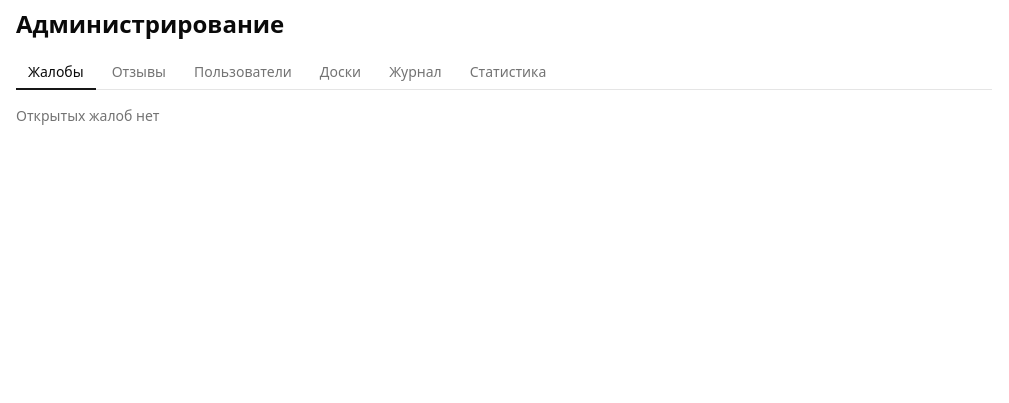
Scenario: AdminFeedback › shows the open feedback with its author, kind, page, version and browser, and closes one
The image size is (1009, 403).
Click the tab "Отзывы": (139, 73) [100, 56, 178, 90]
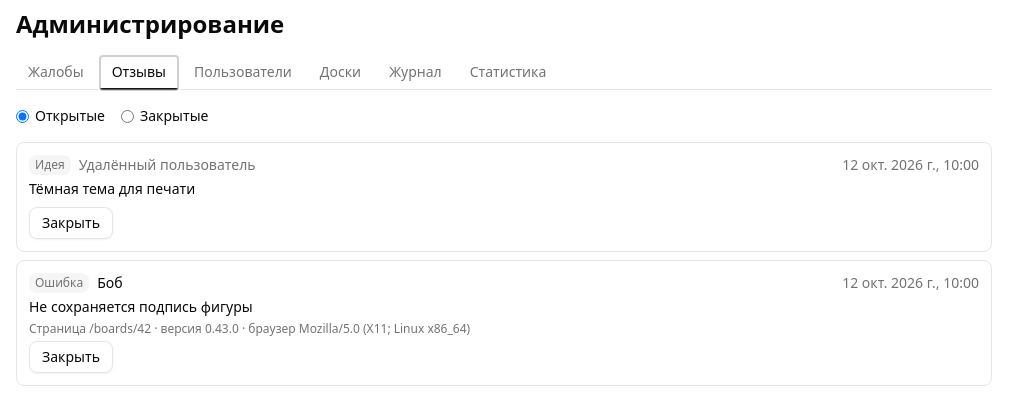
Check: the list item that starts with "Идея" is shown, box [35, 156, 65, 173]
Check: the list item that starts with "Идея" shows "Удалённый пользователь", box [79, 155, 256, 174]
Check: the list item that starts with "Идея" shows "Тёмная тема для печати", box [29, 179, 195, 198]
Click the button "Закрыть" below "Ошибка": (71, 357) [29, 341, 113, 373]
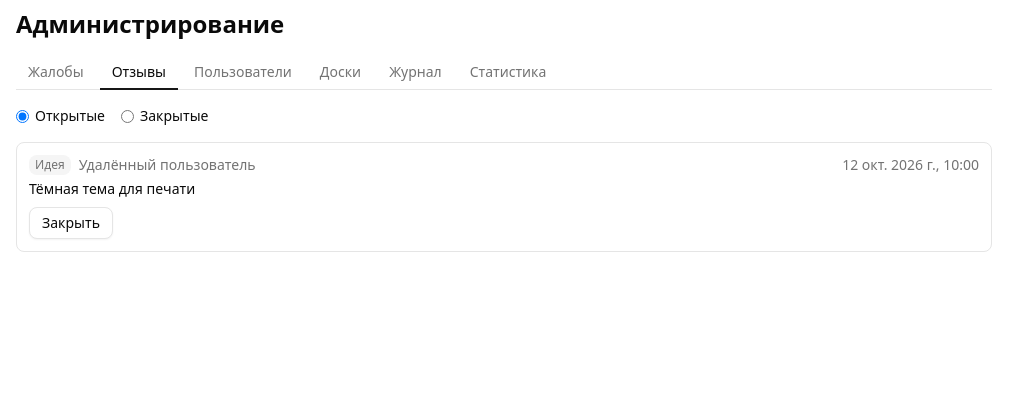
Check: the number of list items is 1, box [16, 142, 992, 252]
